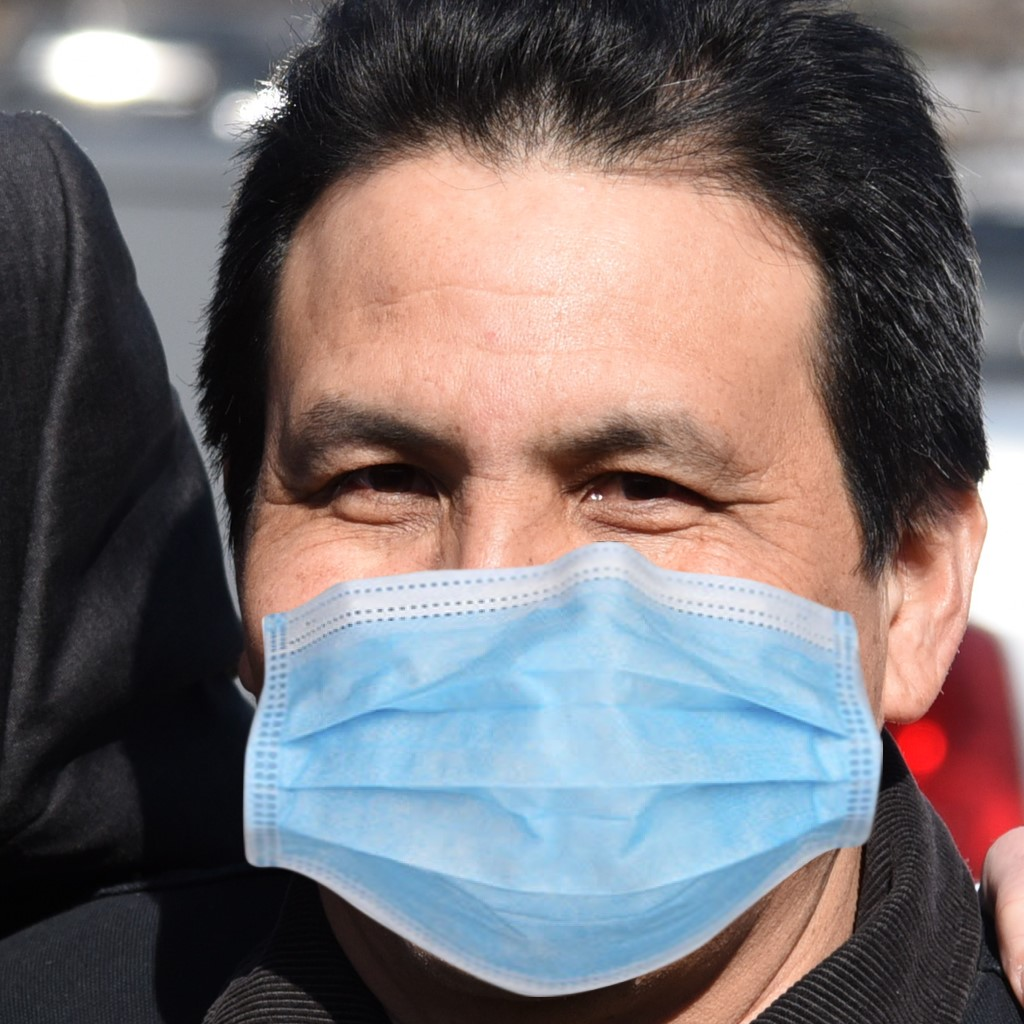con_mascara: (201, 90, 928, 1005)
